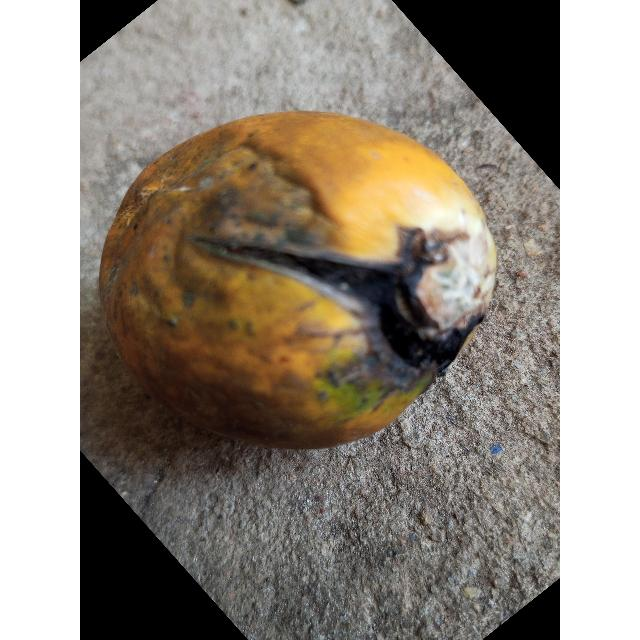damaged: (100, 112, 496, 448)
